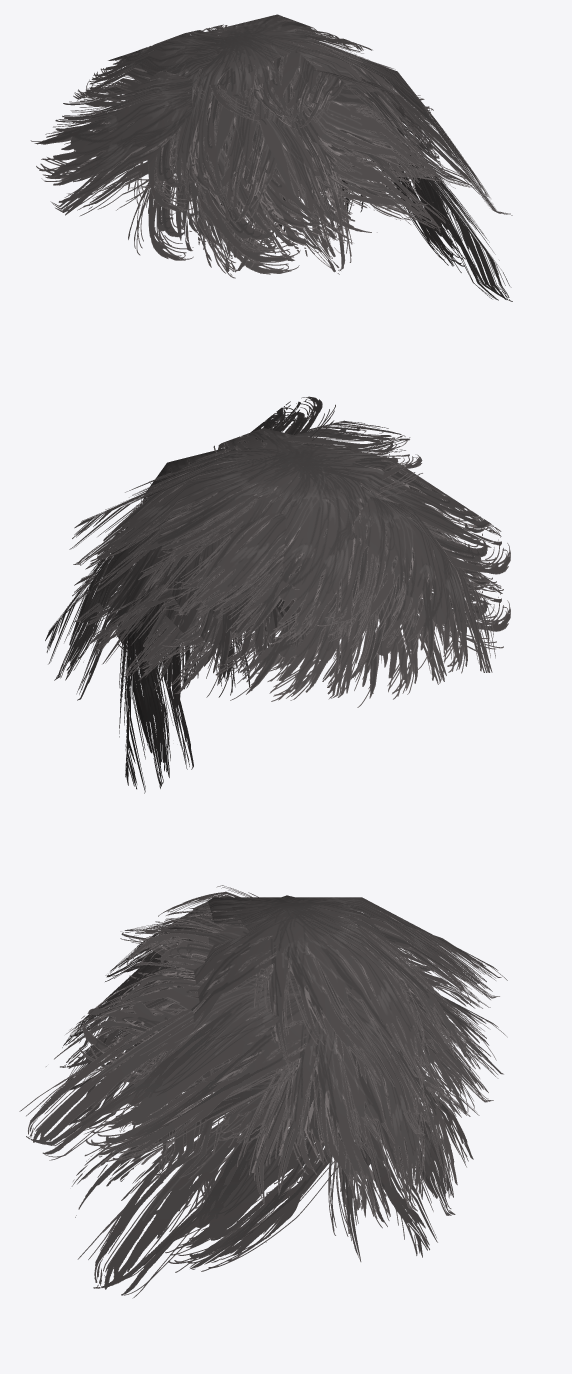
Rendered from MD_Wig.fbx.
3 views of the same model, one above another, from view 1: azimuth 30°, elevation 25°; view 2: azimuth 150°, elevation 25°; view 3: azimuth 270°, elevation 25° (orthographic). The views are drawn at different scales.
Parts seen in each view (by area): view 1: MD_Wig; view 2: MD_Wig; view 3: MD_Wig.
Boxes of the visible parts, x1,y1,x2,y2 form: MD_Wig: (30, 14, 512, 301); MD_Wig: (45, 396, 510, 793); MD_Wig: (19, 885, 507, 1298).
Bounding box in the file's own units: 68.01 × 43.65 × 61.39.
